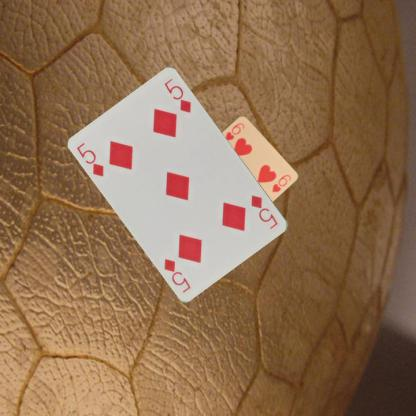5d: (74, 140, 106, 178), (249, 192, 279, 230)
6h: (223, 120, 246, 142)
